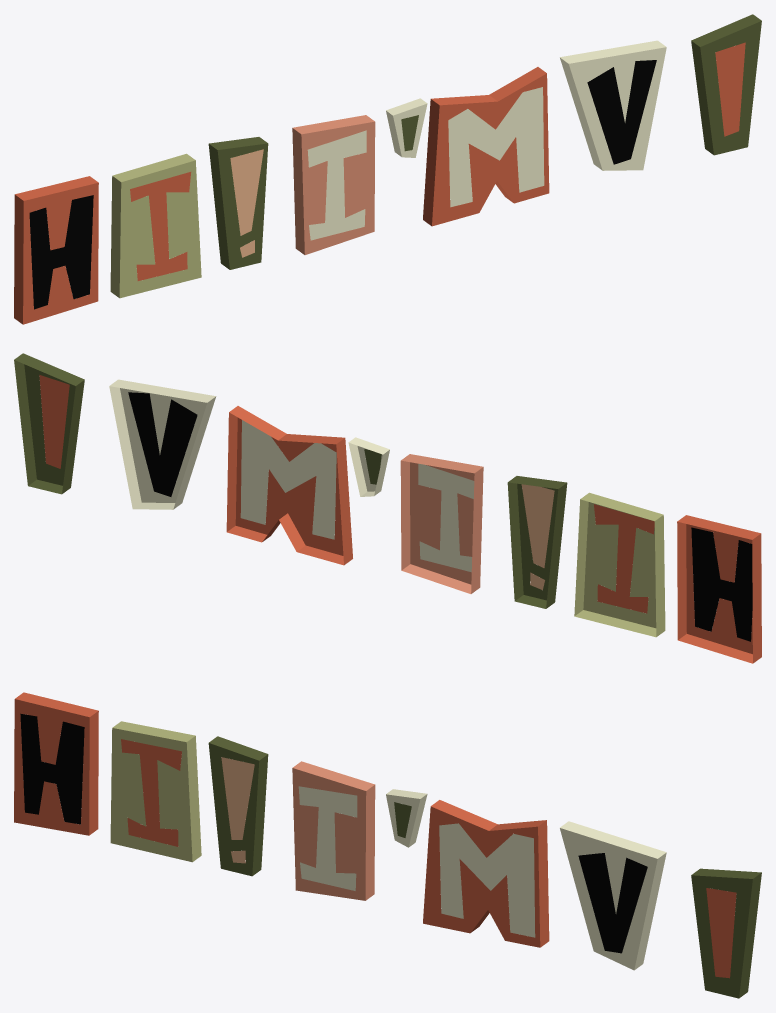
3 views of the same model, one above another, from view 1: azimuth 30°, elevation 25°; view 2: azimuth 150°, elevation 25°; view 3: azimuth 330°, elevation 25° (orthographic).
Parts seen in each view (by area): view 1: text; view 2: text; view 3: text.
Boxes of the visible parts, x1=… form: text: x1=14, y1=14, x2=761, y2=324; text: x1=14, y1=353, x2=761, y2=663; text: x1=14, y1=692, x2=761, y2=998.
Size of the model in its own units: 4.8 by 0.8022 by 0.102.
